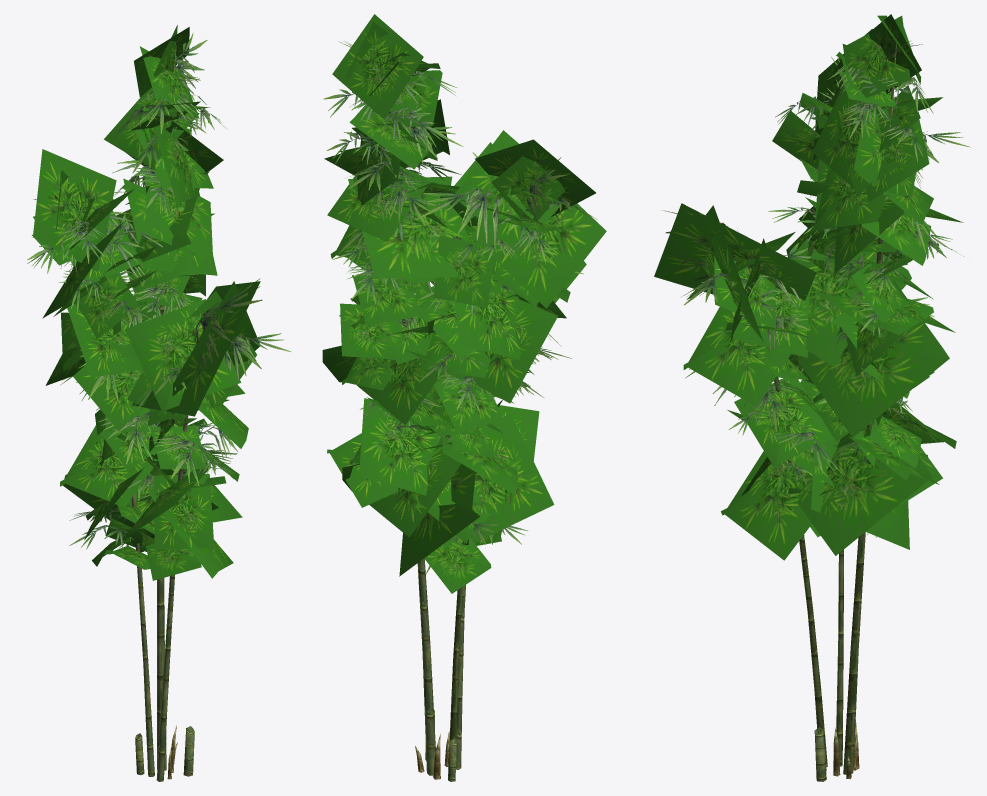
File: zhuzi_61.FBX
3 renders of one model, left to right at view 1: azimuth 30°, elevation 25°; view 2: azimuth 150°, elevation 25°; view 3: azimuth 270°, elevation 25°, orthographic. The views are drawn at different scales.
Parts seen in each view (by area): view 1: zhuzi_61; view 2: zhuzi_61; view 3: zhuzi_61.
Part boxes in pixels (x1,y1,x2,y2): zhuzi_61: (27, 25, 290, 781); zhuzi_61: (322, 14, 606, 781); zhuzi_61: (654, 14, 970, 781).
Size of the model in its own units: 680 by 1970 by 773.
